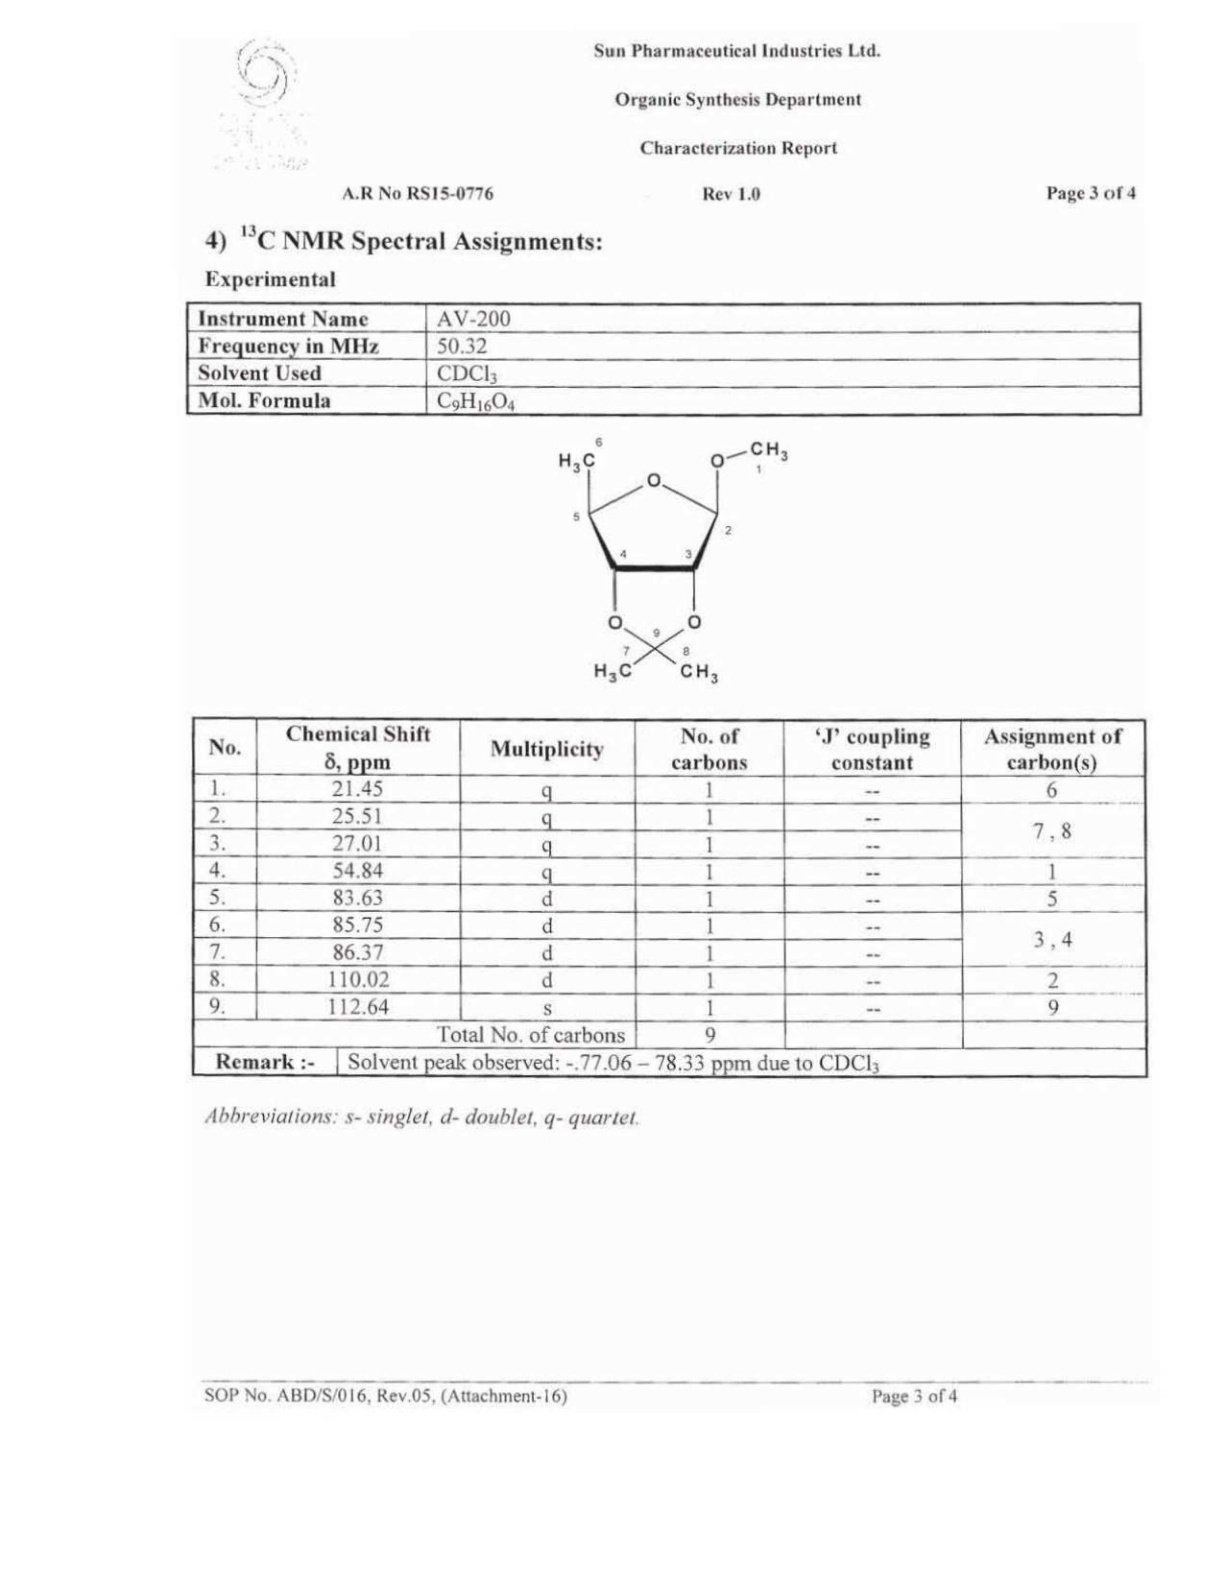full_lined: (184, 298, 1142, 418)
merged_cells: (190, 715, 1149, 1079)
